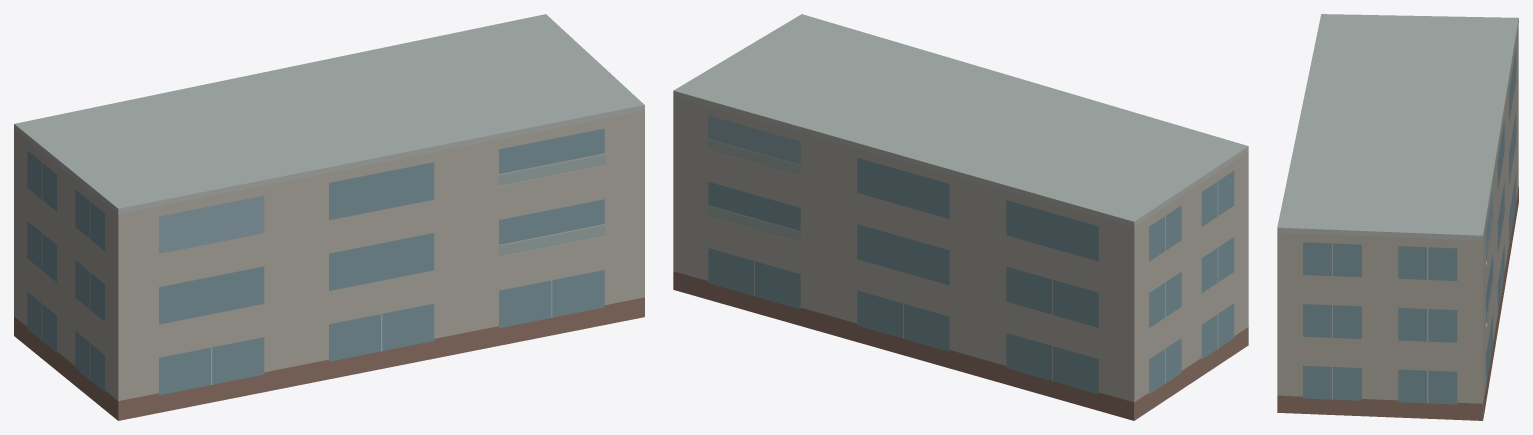
File: survey-upis-32603203.glb
3 views of the same model, side by side, from view 1: azimuth 30°, elevation 25°; view 2: azimuth 150°, elevation 25°; view 3: azimuth 270°, elevation 25° (orthographic). The views are drawn at different scales.
Visible parts, largest first — view 1: survey-upis-32603203.tmp; view 2: survey-upis-32603203.tmp; view 3: survey-upis-32603203.tmp.
Part boxes in pixels (<box>): survey-upis-32603203.tmp: <box>14,14,644,420</box>; survey-upis-32603203.tmp: <box>673,14,1248,420</box>; survey-upis-32603203.tmp: <box>1277,14,1518,420</box>.
Size of the model in its own units: 23.5 by 9.15 by 10.83.
